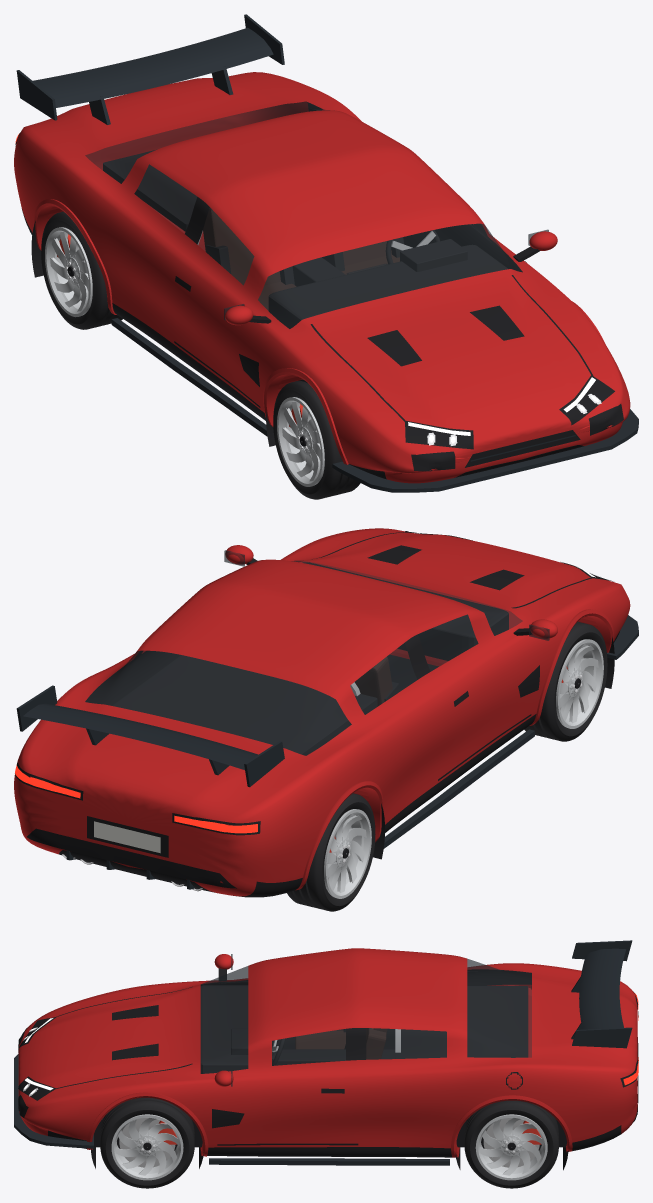
The model's file is car_apex_gp.glb.
The picture shows the model from 3 angles, top to bottom: view 1: azimuth 30°, elevation 25°; view 2: azimuth 150°, elevation 25°; view 3: azimuth 270°, elevation 25°; orthographic projection. The views are drawn at different scales.
Parts seen in each view (by area): view 1: Body, WheelMesh_Wheel_Front_R, WheelMesh_Wheel_Rear_R; view 2: Body, WheelMesh_Wheel_Rear_R, WheelMesh_Wheel_Front_R; view 3: Body, WheelMesh_Wheel_Front_L, WheelMesh_Wheel_Rear_L.
Boxes of the visible parts, x1,y1,x2,y2 form: Body: (14, 14, 638, 492); WheelMesh_Wheel_Front_R: (273, 379, 360, 499); WheelMesh_Wheel_Rear_R: (41, 211, 122, 329); Body: (14, 528, 638, 897); WheelMesh_Wheel_Rear_R: (287, 793, 375, 911); WheelMesh_Wheel_Front_R: (524, 621, 607, 741); Body: (14, 940, 638, 1170); WheelMesh_Wheel_Front_L: (100, 1097, 194, 1188); WheelMesh_Wheel_Rear_L: (464, 1100, 558, 1188).
Size of the model in its own units: 2.19 by 1.27 by 4.56.
